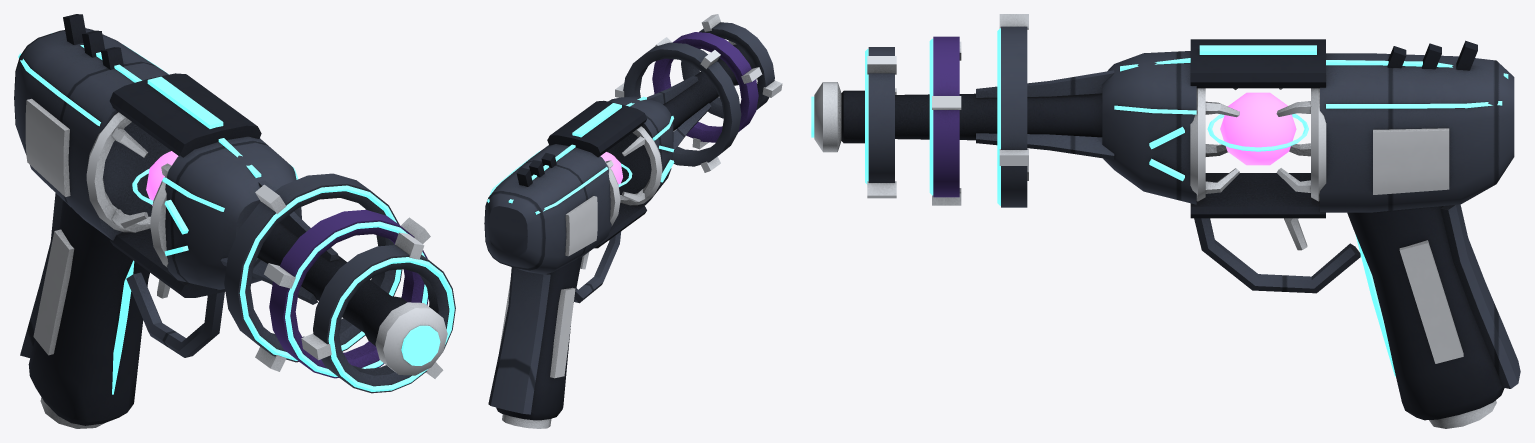
Rendered from Pistola_VIP.fbx.
The picture shows the model from 3 angles, left to right: view 1: azimuth 30°, elevation 25°; view 2: azimuth 150°, elevation 25°; view 3: azimuth 270°, elevation 25°; orthographic projection. The views are drawn at different scales.
Parts seen in each view (by area): view 1: VIP_Cuerpo, VIP_Anillo1, VIP_Anillo3, VIP_Anillo2, VIP_Luces, VIP_Anillo1_Luz, VIP_Anillo3_Luz, VIP_Anillo2_Luz, VIP_Nucleo; view 2: VIP_Cuerpo, VIP_Anillo1, VIP_Anillo2, VIP_Anillo3, VIP_Luces, VIP_Nucleo; view 3: VIP_Cuerpo, VIP_Luces, VIP_Anillo1, VIP_Anillo2, VIP_Anillo3, VIP_Nucleo, VIP_Anillo2_Luz, VIP_Anillo1_Luz.
Part boxes in pixels (<box>): VIP_Cuerpo: <box>14,14,447,428</box>; VIP_Anillo1: <box>224,173,402,371</box>; VIP_Anillo3: <box>301,232,455,393</box>; VIP_Anillo2: <box>264,209,430,378</box>; VIP_Luces: <box>18,33,440,394</box>; VIP_Anillo1_Luz: <box>239,185,401,360</box>; VIP_Anillo3_Luz: <box>328,257,454,391</box>; VIP_Anillo2_Luz: <box>285,221,427,376</box>; VIP_Nucleo: <box>146,151,178,205</box>; VIP_Cuerpo: <box>484,40,765,428</box>; VIP_Anillo1: <box>615,42,741,172</box>; VIP_Anillo2: <box>652,32,762,149</box>; VIP_Anillo3: <box>681,14,782,118</box>; VIP_Luces: <box>487,96,674,214</box>; VIP_Nucleo: <box>600,152,622,184</box>; VIP_Cuerpo: <box>814,39,1520,428</box>; VIP_Luces: <box>811,45,1508,376</box>; VIP_Anillo1: <box>999,14,1028,207</box>; VIP_Anillo2: <box>932,36,961,205</box>; VIP_Anillo3: <box>867,47,896,198</box>; VIP_Nucleo: <box>1220,92,1296,165</box>; VIP_Anillo2_Luz: <box>929,38,933,195</box>; VIP_Anillo1_Luz: <box>997,28,1000,205</box>.
Bounding box in the file's own units: 0.66 × 1.45 × 2.41.
3 materials, 1 textured.
